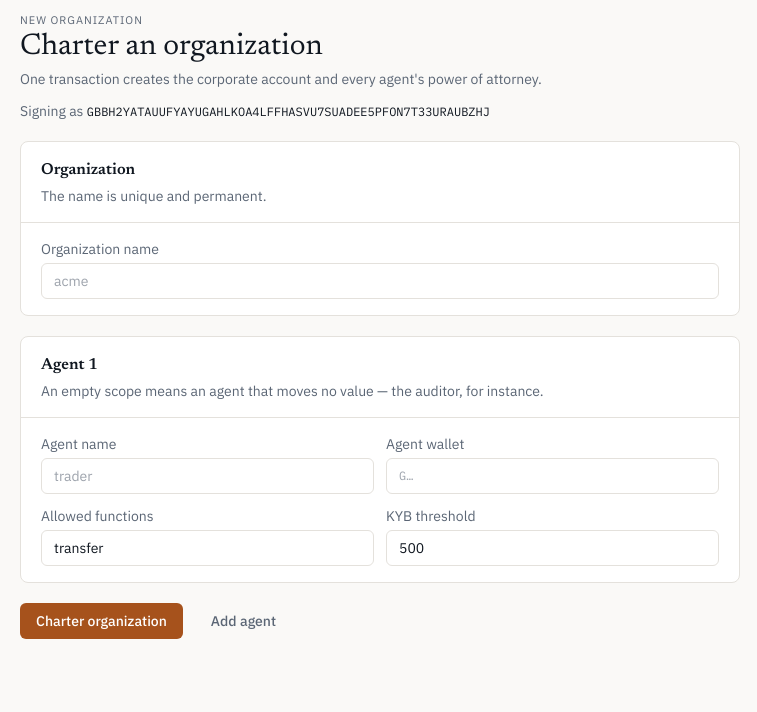
constituição da organização › exige nome da organização antes de enviar
What coordinates should you click on to do the following:
click the button "Charter organization"
I would click on:
 (101, 620)
Its box is [20, 602, 183, 638].
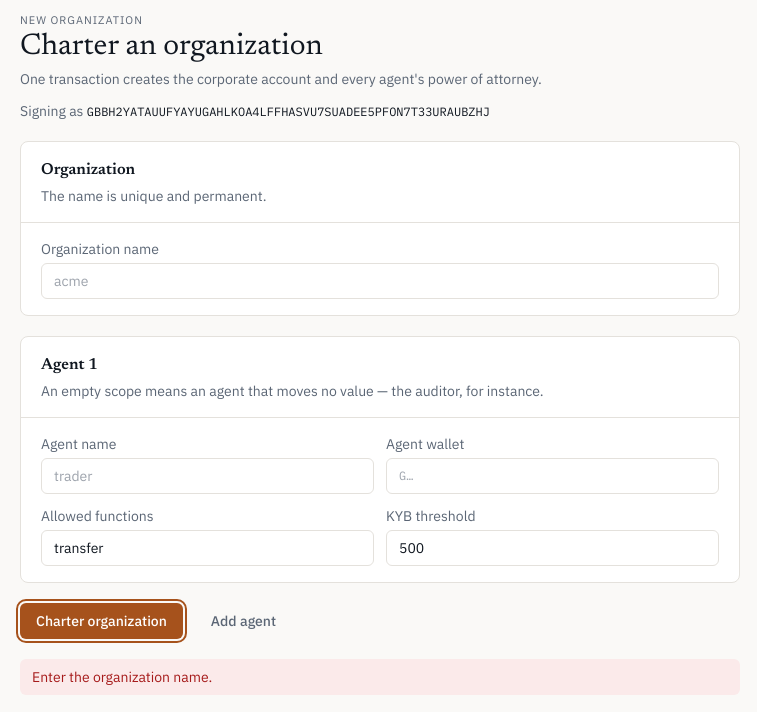
Expected: the message shows "name", [32, 668, 212, 686]
